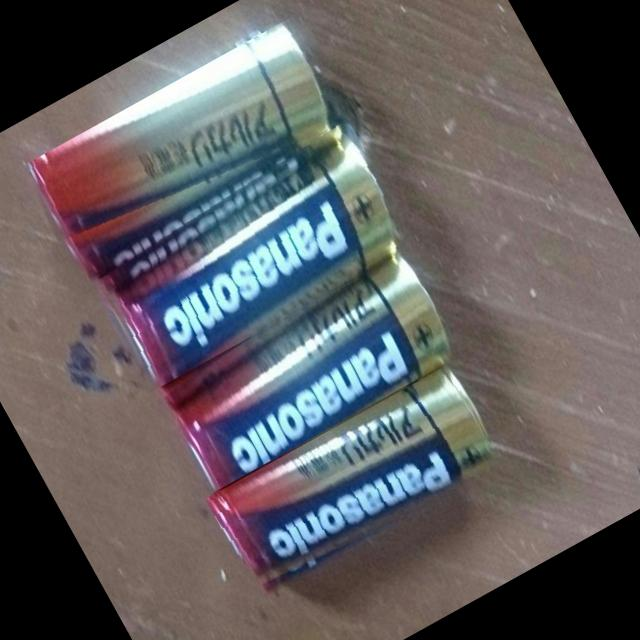Hazard: (78, 119, 416, 392), (17, 11, 358, 273), (141, 232, 468, 495), (204, 362, 507, 604)
